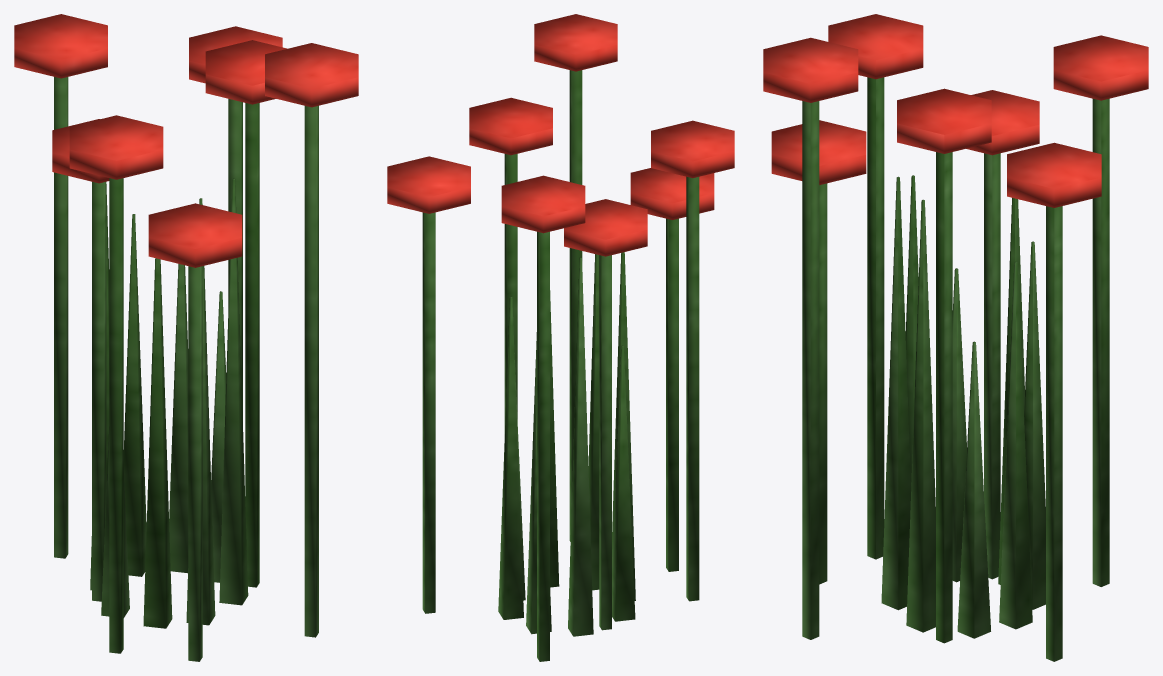
File: wildflower_tuft_2.glb
The picture shows the model from 3 angles, left to right: view 1: azimuth 30°, elevation 25°; view 2: azimuth 150°, elevation 25°; view 3: azimuth 270°, elevation 25°; orthographic projection. The views are drawn at different scales.
Parts seen in each view (by area): view 1: wildflower_tuft_2; view 2: wildflower_tuft_2; view 3: wildflower_tuft_2.
Boxes of the visible parts, x1=… form: wildflower_tuft_2: x1=14, y1=14, x2=358, y2=661; wildflower_tuft_2: x1=387, y1=14, x2=734, y2=661; wildflower_tuft_2: x1=763, y1=14, x2=1148, y2=661.
Bounding box in the file's own units: 0.4177 × 0.7545 × 0.4574.
Materials: 2 (2 with a texture image).
